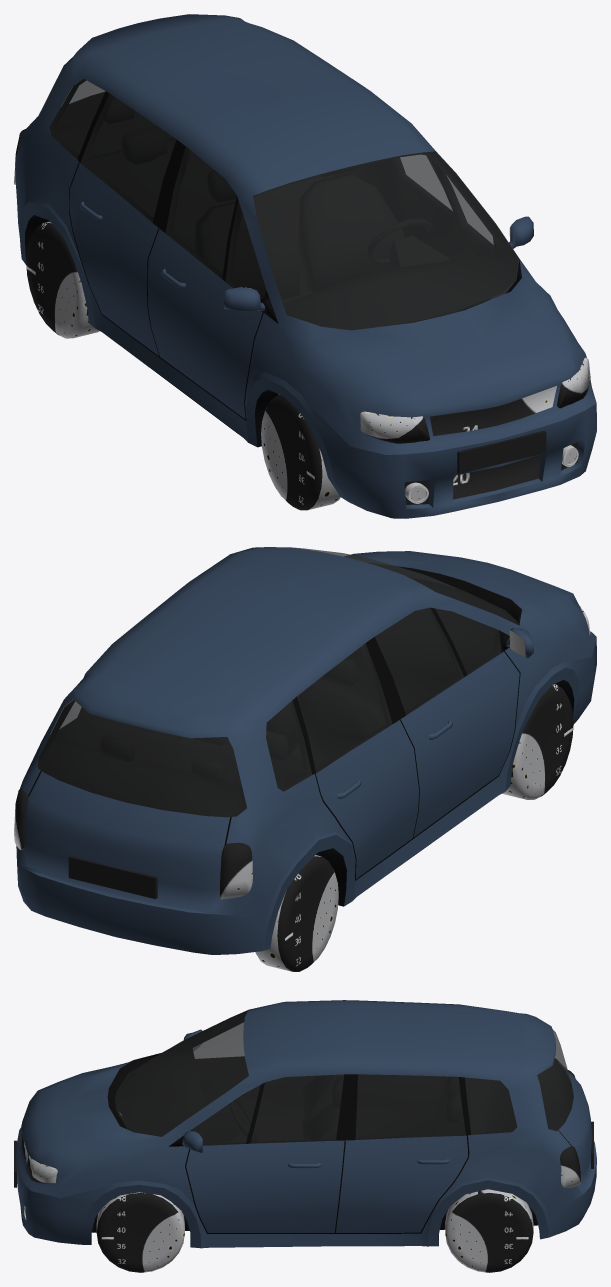
File: monospace.obj
The picture shows the model from 3 angles, top to bottom: view 1: azimuth 30°, elevation 25°; view 2: azimuth 150°, elevation 25°; view 3: azimuth 270°, elevation 25°; orthographic projection. The views are drawn at different scales.
Parts seen in each view (by area): view 1: Car, Glass, Interior, wheels, HeadLights, LicensePlate, Lines, FogLights; view 2: Car, Glass, Interior, wheels, RearLights, LicensePlate, Lines; view 3: Car, Glass, Interior, wheels, RearLights, Lines, HeadLights.
Boxes of the visible parts, bbox=[...] form: Car: bbox=[15, 14, 596, 518]; Glass: bbox=[38, 58, 519, 330]; Interior: bbox=[49, 79, 518, 330]; wheels: bbox=[26, 221, 340, 510]; HeadLights: bbox=[360, 357, 590, 443]; LicensePlate: bbox=[457, 430, 546, 473]; Lines: bbox=[69, 162, 263, 420]; FogLights: bbox=[405, 445, 578, 503]; Car: bbox=[16, 547, 596, 954]; Glass: bbox=[37, 547, 518, 817]; Interior: bbox=[38, 577, 518, 817]; wheels: bbox=[255, 684, 573, 971]; RearLights: bbox=[14, 789, 252, 899]; LicensePlate: bbox=[68, 610, 518, 899]; Lines: bbox=[28, 651, 520, 880]; Car: bbox=[16, 1000, 596, 1248]; Glass: bbox=[115, 1010, 573, 1145]; Interior: bbox=[115, 1010, 573, 1145]; wheels: bbox=[96, 1112, 533, 1272]; RearLights: bbox=[560, 1070, 580, 1187]; Lines: bbox=[185, 1071, 571, 1233]; HeadLights: bbox=[26, 1155, 57, 1183].
Size of the model in its own units: 213 by 179 by 467.
